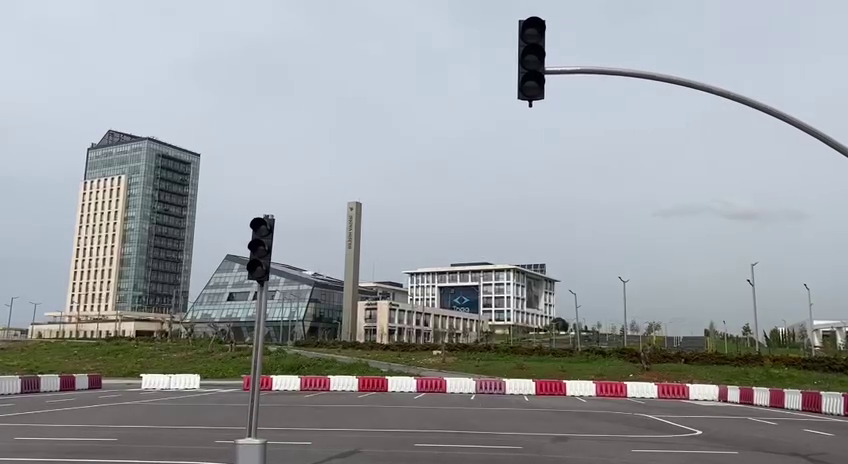trafficLight: (511, 11, 549, 110), (242, 209, 278, 286)
